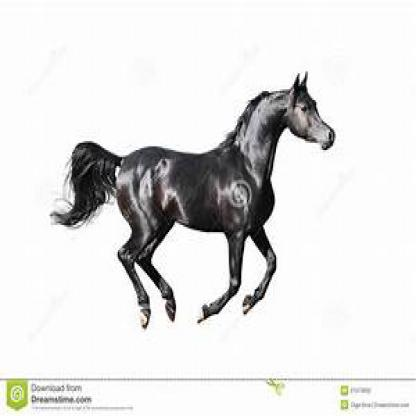horse: (47, 64, 337, 328)
